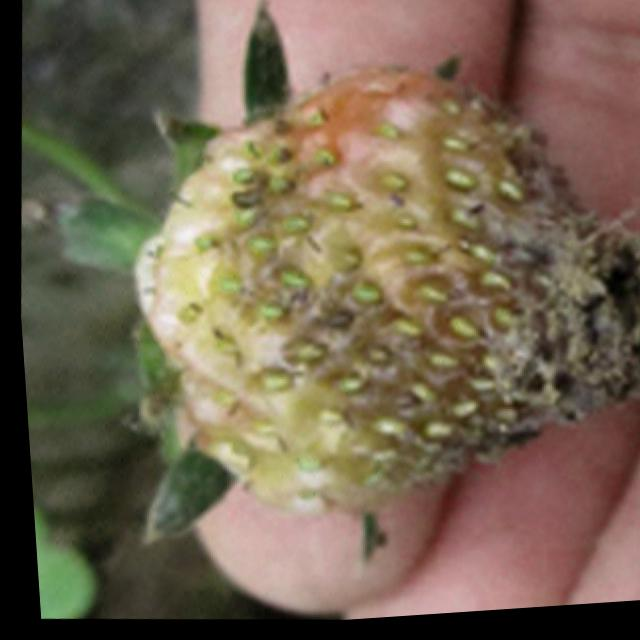Gray Mold: (127, 61, 640, 539)
